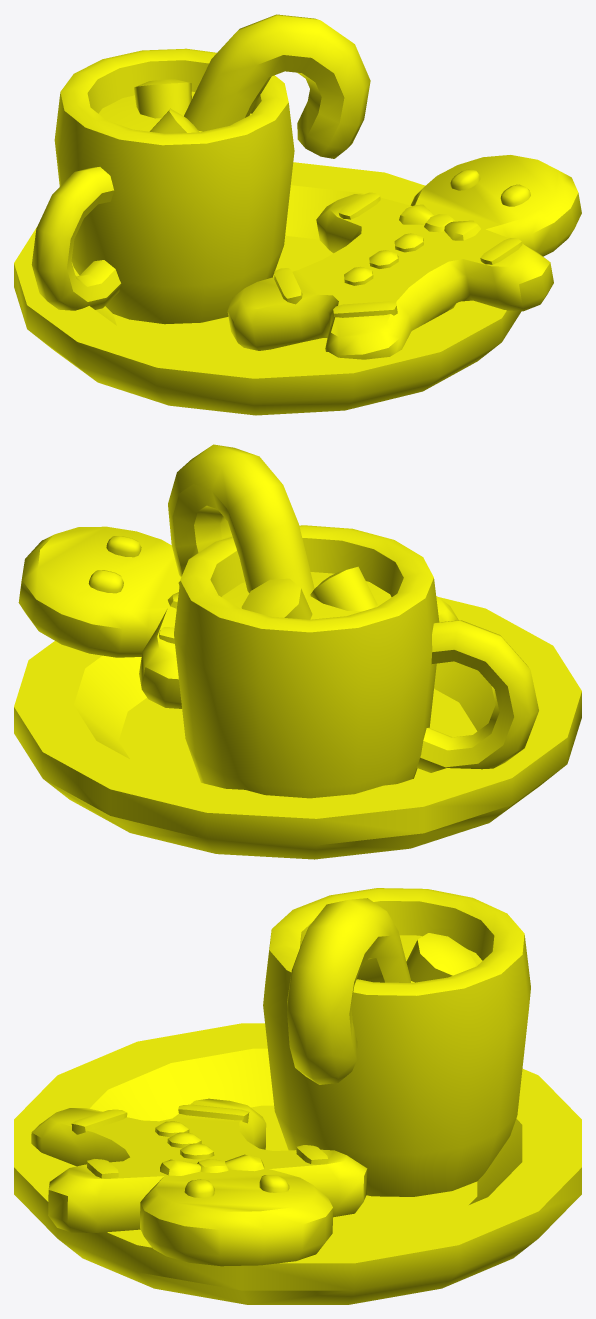
The model's file is kaykit-plate-decorated-a.glb.
The picture shows the model from 3 angles, top to bottom: view 1: azimuth 30°, elevation 25°; view 2: azimuth 150°, elevation 25°; view 3: azimuth 270°, elevation 25°; orthographic projection. The views are drawn at different scales.
Parts seen in each view (by area): view 1: plate_decorated_A; view 2: plate_decorated_A; view 3: plate_decorated_A.
Boxes of the visible parts, x1=… form: plate_decorated_A: x1=14, y1=14, x2=581, y2=415; plate_decorated_A: x1=14, y1=444, x2=581, y2=859; plate_decorated_A: x1=14, y1=888, x2=581, y2=1304.
Bounding box in the file's own units: 1.07 × 0.5789 × 0.9501.
